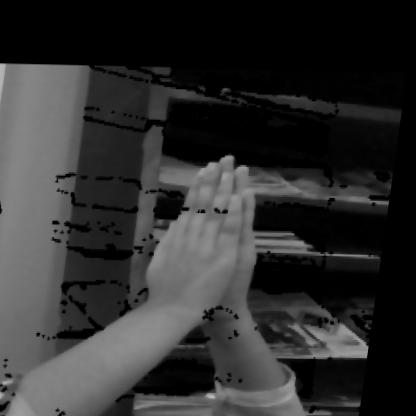namaste: (100, 132, 331, 391)
